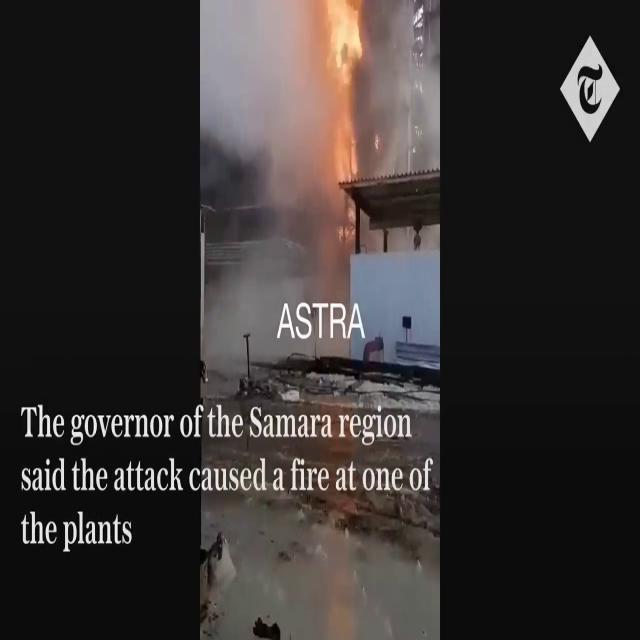Fire: (318, 0, 368, 221)
Smoke: (200, 0, 324, 201), (364, 0, 439, 179)
